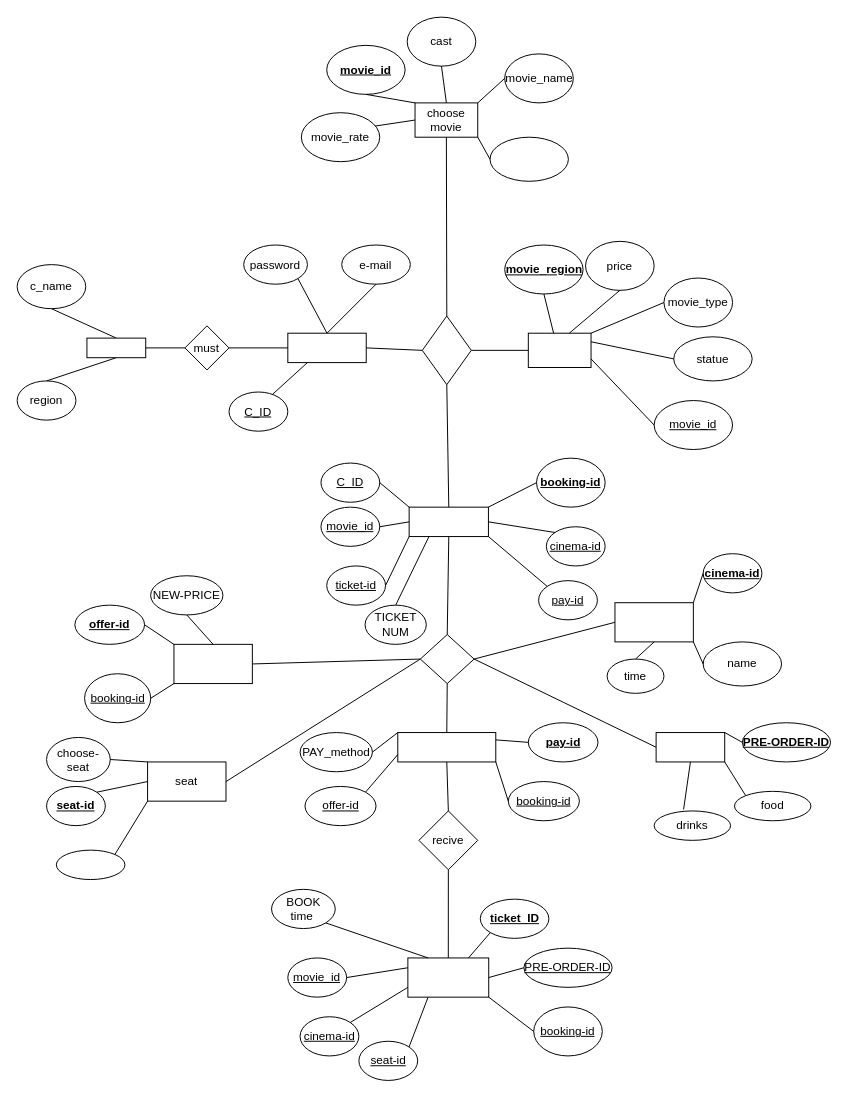
The diagram is 848 pixels wide and 1098 high, and some of its shapes have lost their labels. Each missing label, with the box of its shape:
book: (408, 506, 488, 537)
browse: (527, 332, 591, 368)
can: (421, 315, 471, 385)
CHOOSE CINEMA: (614, 602, 693, 642)
customer: (86, 337, 146, 358)
discont: (173, 643, 252, 684)
do: (419, 634, 474, 684)
login: (287, 332, 366, 363)
m-desc: (489, 136, 568, 181)
payment: (397, 732, 496, 762)
pre-order-food: (655, 732, 725, 762)
seat-type: (55, 849, 125, 880)
TICKET: (407, 957, 489, 997)
